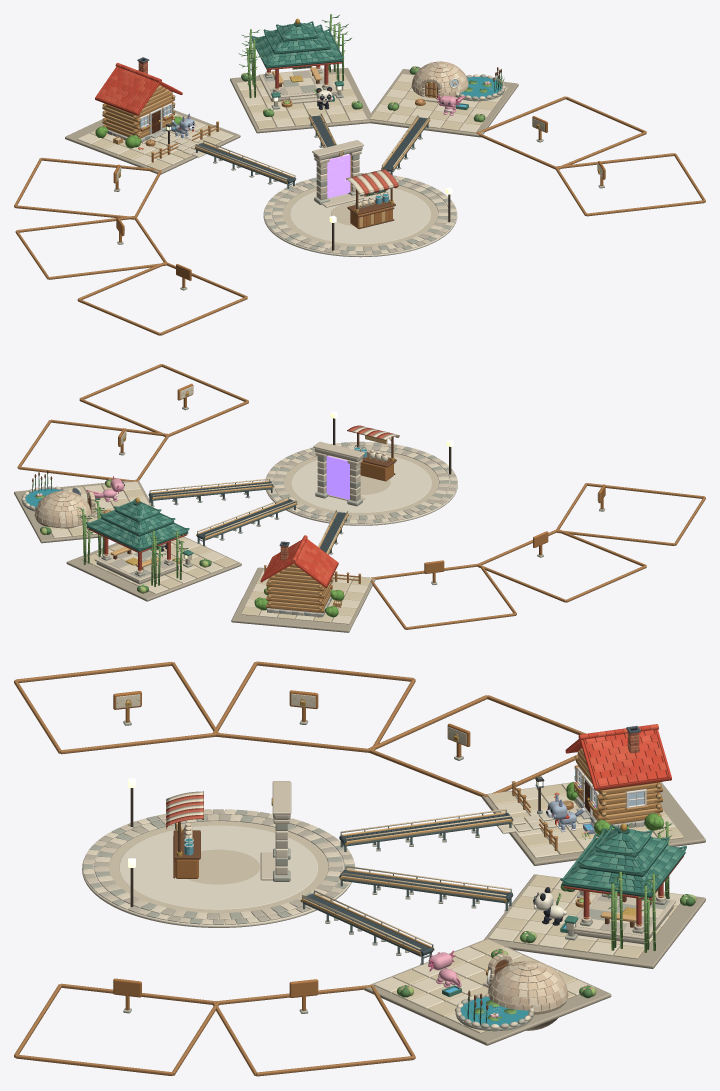
Rendered from park2.glb.
3 renders of one model, top to bottom at view 1: azimuth 30°, elevation 25°; view 2: azimuth 150°, elevation 25°; view 3: azimuth 270°, elevation 25°, orthographic. The views are drawn at different scales.
Visible parts, largest first — view 1: 广场圈.002, 平台边.001, 广场圈.001, 平台边.002, 平台边, R2/传送门发光面, 广场圈, R2/池塘水面; view 2: 广场圈.002, 平台边, 平台边.001, 广场圈.001, 平台边.002, R2/传送门发光面, 广场圈, R2/小卖部圆柜, 广场圈.003; view 3: 广场圈.002, 平台边.001, 广场圈.001, 平台边.002, 平台边, 广场圈.003, 广场圈, R2/池塘水面, 空地边.005, 空地边.001, 空地边.013, 空地边.016 (+4 smaller).
Boxes of the visible parts, x1=… form: 广场圈.002: x1=290, y1=188, x2=430, y2=243; 平台边.001: x1=230, y1=68, x2=372, y2=133; 广场圈.001: x1=282, y1=185, x2=438, y2=250; 平台边.002: x1=368, y1=69, x2=518, y2=137; 平台边: x1=65, y1=110, x2=240, y2=174; R2/传送门发光面: x1=327, y1=154, x2=350, y2=198; 广场圈: x1=263, y1=177, x2=457, y2=257; R2/池塘水面: x1=459, y1=77, x2=501, y2=97; 广场圈.002: x1=291, y1=455, x2=431, y2=512; 平台边: x1=231, y1=567, x2=375, y2=632; 平台边.001: x1=66, y1=536, x2=241, y2=601; 广场圈.001: x1=284, y1=447, x2=438, y2=519; 平台边.002: x1=14, y1=479, x2=153, y2=543; R2/传送门发光面: x1=326, y1=456, x2=350, y2=499; 广场圈: x1=265, y1=442, x2=457, y2=525; R2/小卖部圆柜: x1=360, y1=462, x2=393, y2=481; 广场圈.003: x1=360, y1=475, x2=390, y2=495; 广场圈.002: x1=119, y1=825, x2=318, y2=909; 平台边.001: x1=484, y1=874, x2=705, y2=968; 广场圈.001: x1=109, y1=817, x2=328, y2=918; 平台边.002: x1=364, y1=940, x2=611, y2=1045; 平台边: x1=481, y1=782, x2=705, y2=865; 广场圈.003: x1=188, y1=849, x2=260, y2=884; 广场圈: x1=82, y1=810, x2=355, y2=927; R2/池塘水面: x1=460, y1=997, x2=529, y2=1026; 空地边.005: x1=256, y1=1056, x2=414, y2=1076; 空地边.001: x1=15, y1=1054, x2=172, y2=1075; 空地边.013: x1=256, y1=661, x2=413, y2=681; 空地边.016: x1=60, y1=733, x2=215, y2=754.
Size of the model in its own units: 37.13 by 5.38 by 26.32.
